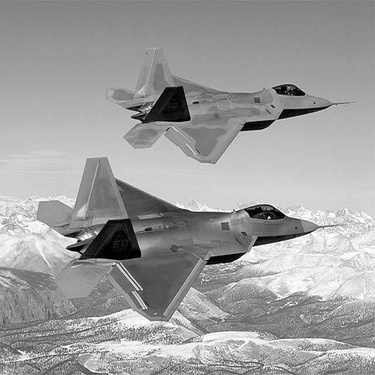airplane: (20, 146, 354, 334), (97, 30, 359, 169)
